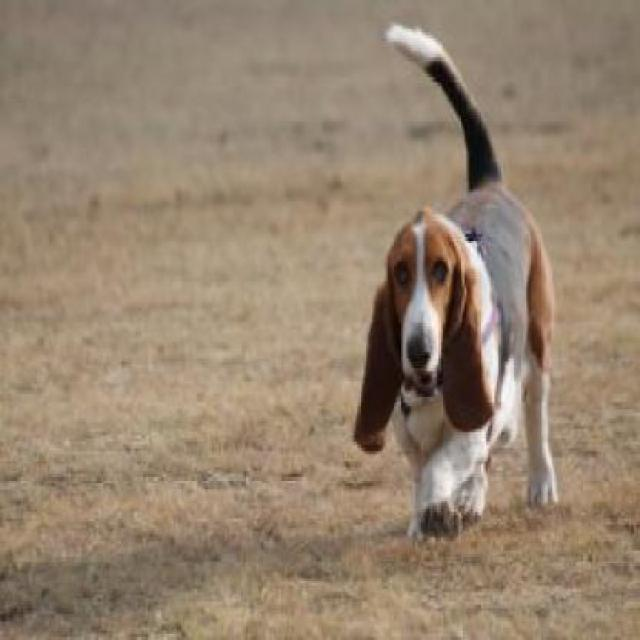Dog: (351, 18, 563, 540)
